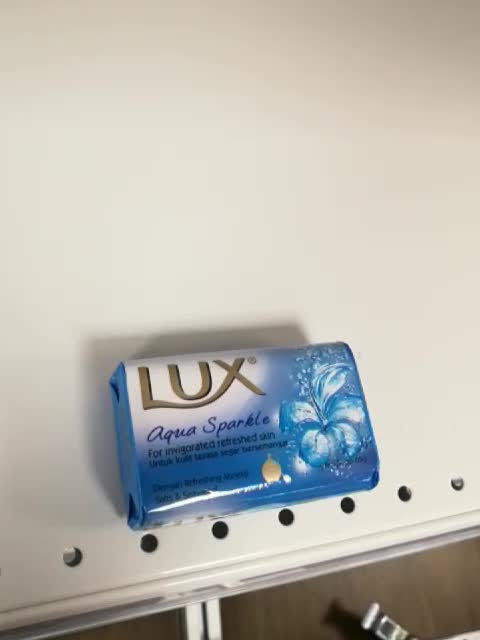soap: (102, 339, 383, 534)
